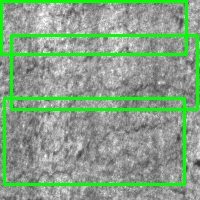crazing: (4, 98, 184, 184), (11, 35, 197, 109), (1, 1, 186, 54)
